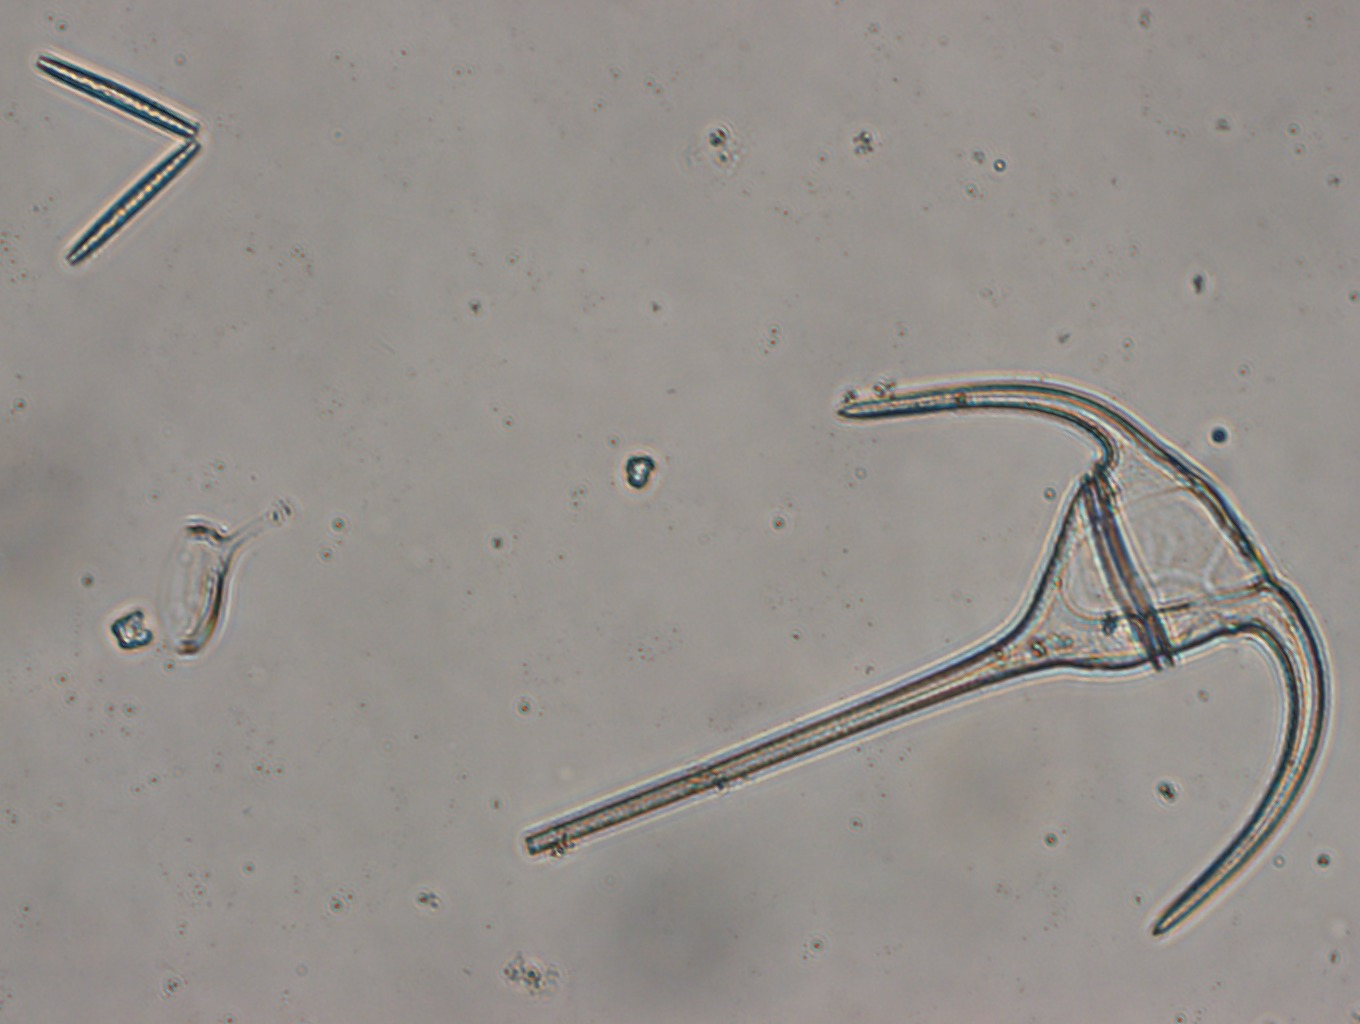ceratium trichoceros: (518, 376, 1333, 942)
thalassionema nitzschioides: (32, 49, 204, 267)
